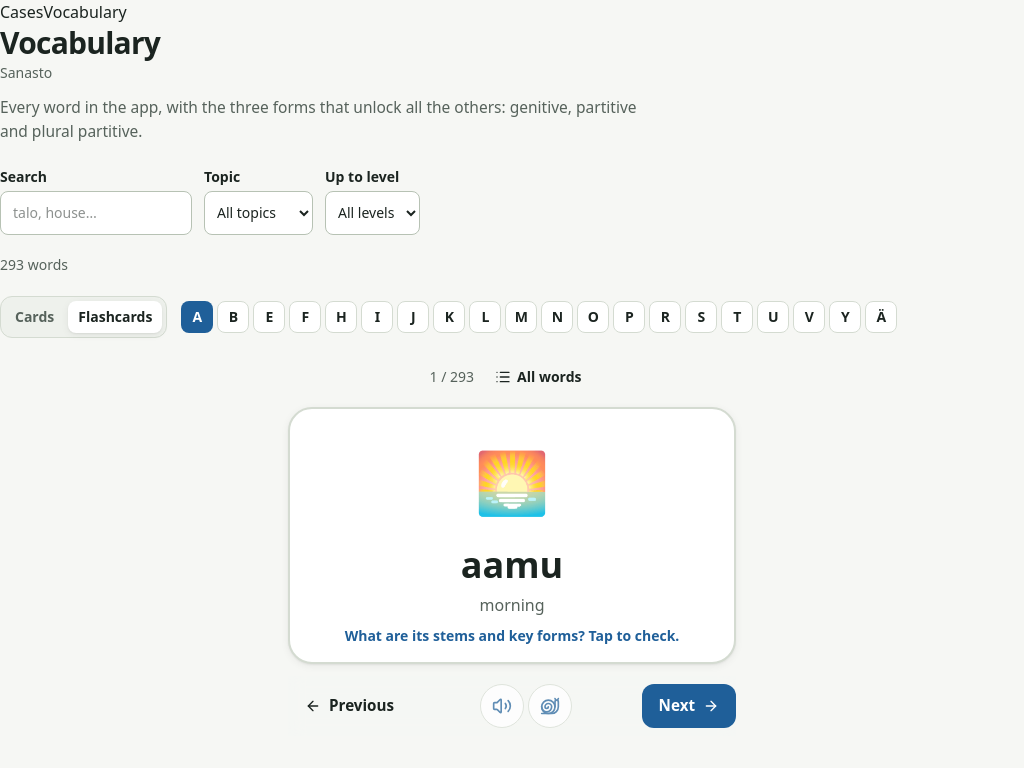
Vocabulary flashcards: going straight to a word › "All words" lists the deck by letter, marks the current card and goes to the word picked
The image size is (1024, 768).
Click the button "All words" at (538, 377), box [482,359,594,395]
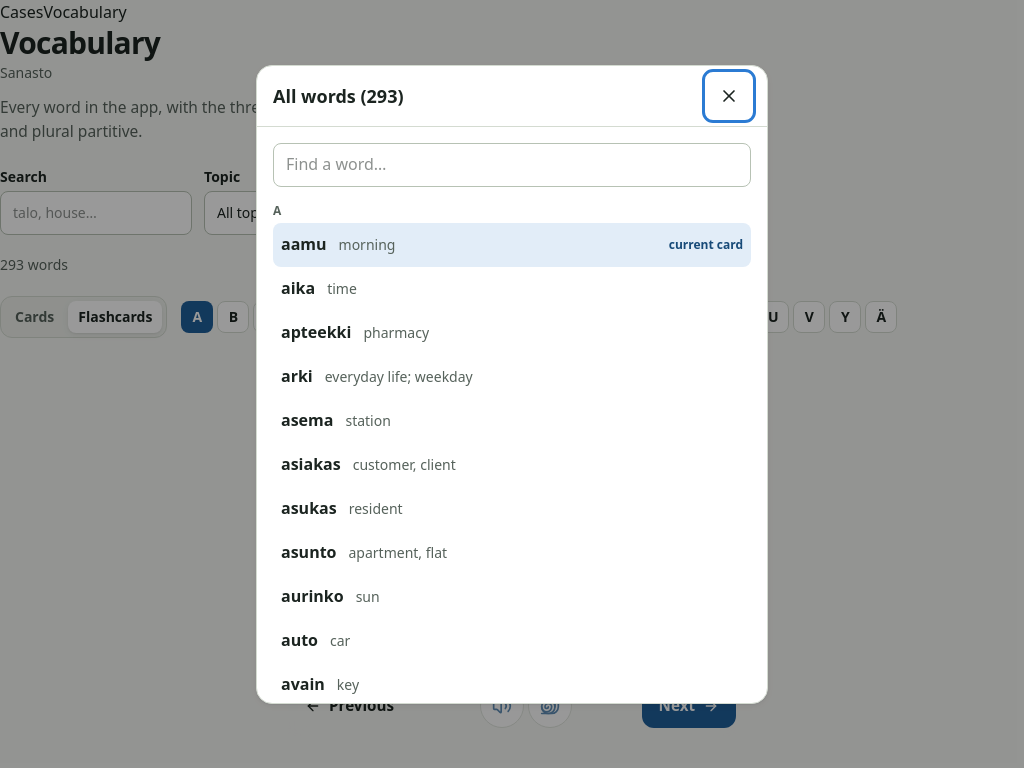
Expected: the button "aamu morning current card" is shown, [273,222,751,266]
Type "vesi" into the search field labelled "Find a word" at (512, 164), box [273,142,751,186]
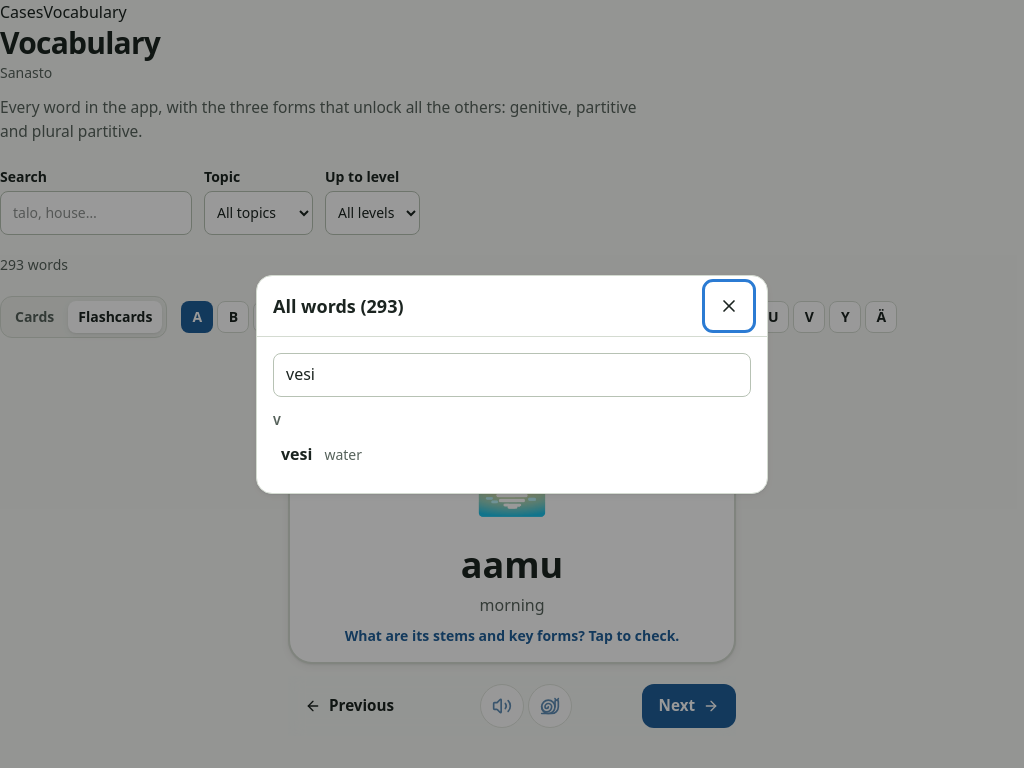
Click the button "vesi water" at (297, 454), box [273,432,751,476]
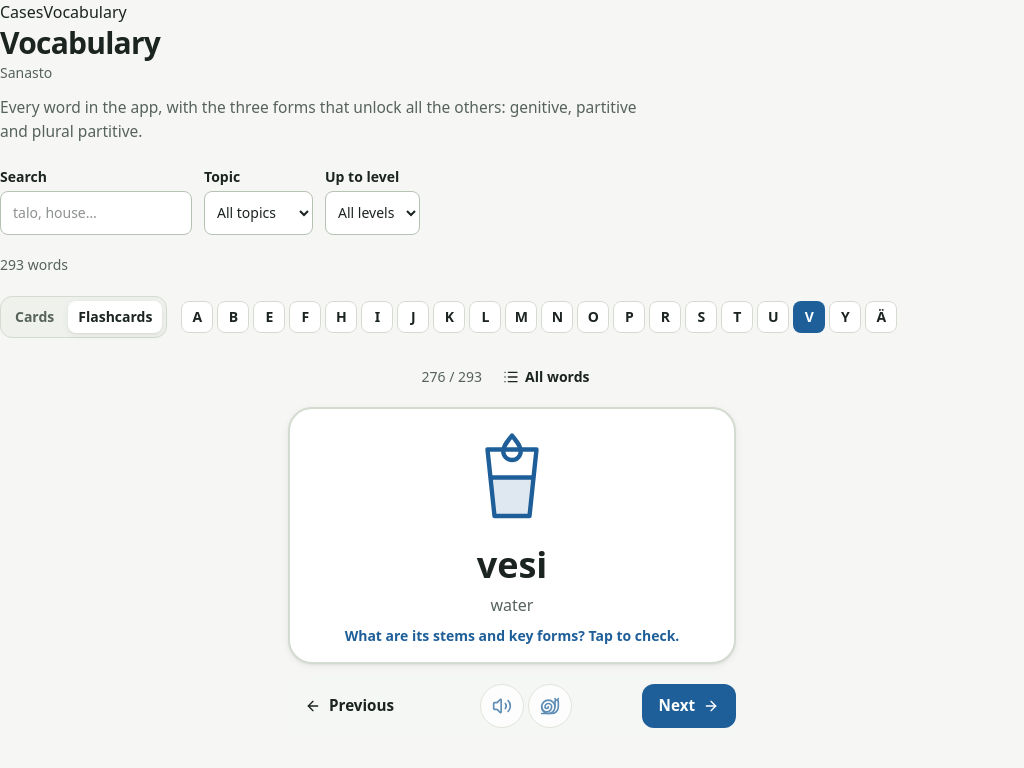
Expected: the dialog is gone
